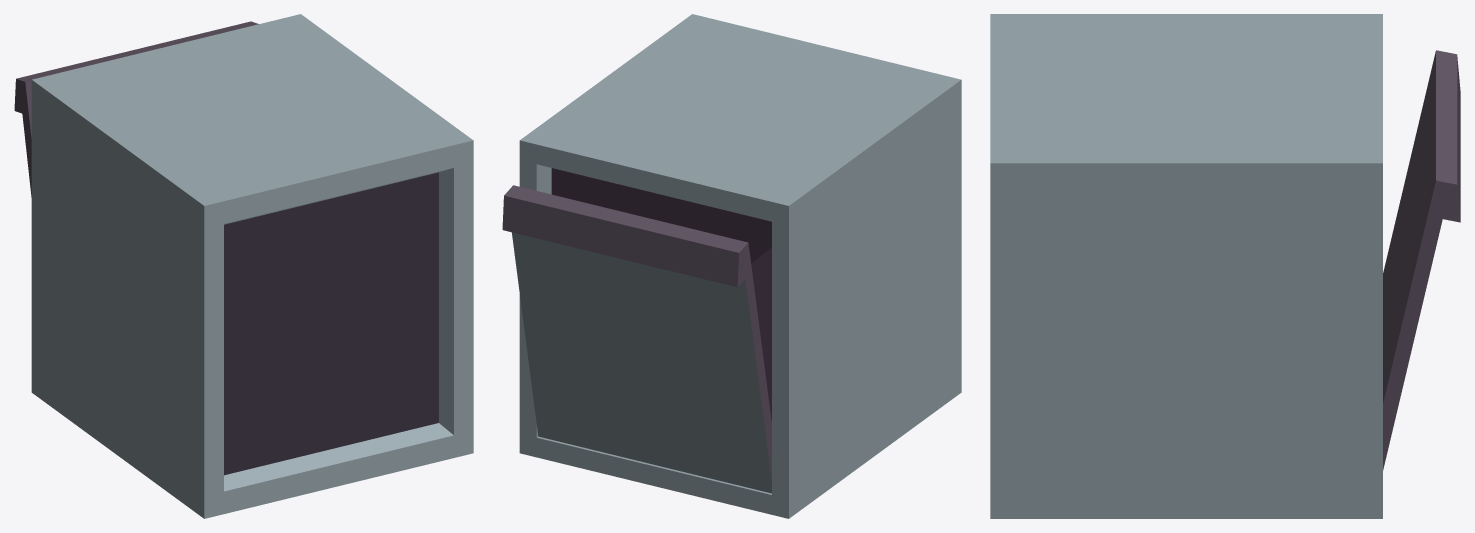
File: WashingMachine.fbx
3 views of the same model, side by side, from view 1: azimuth 30°, elevation 25°; view 2: azimuth 150°, elevation 25°; view 3: azimuth 270°, elevation 25° (orthographic). The views are drawn at different scales.
Visible parts, largest first — view 1: Cube, Cube.001; view 2: Cube, Cube.001; view 3: Cube, Cube.001.
Part boxes in pixels (x1,y1,x2,y2): Cube: (31, 14, 473, 518); Cube.001: (14, 21, 258, 197); Cube: (519, 14, 961, 518); Cube.001: (502, 185, 771, 493); Cube: (990, 14, 1382, 518); Cube.001: (1383, 50, 1460, 470).
Size of the model in its own units: 180 by 200 by 240.
